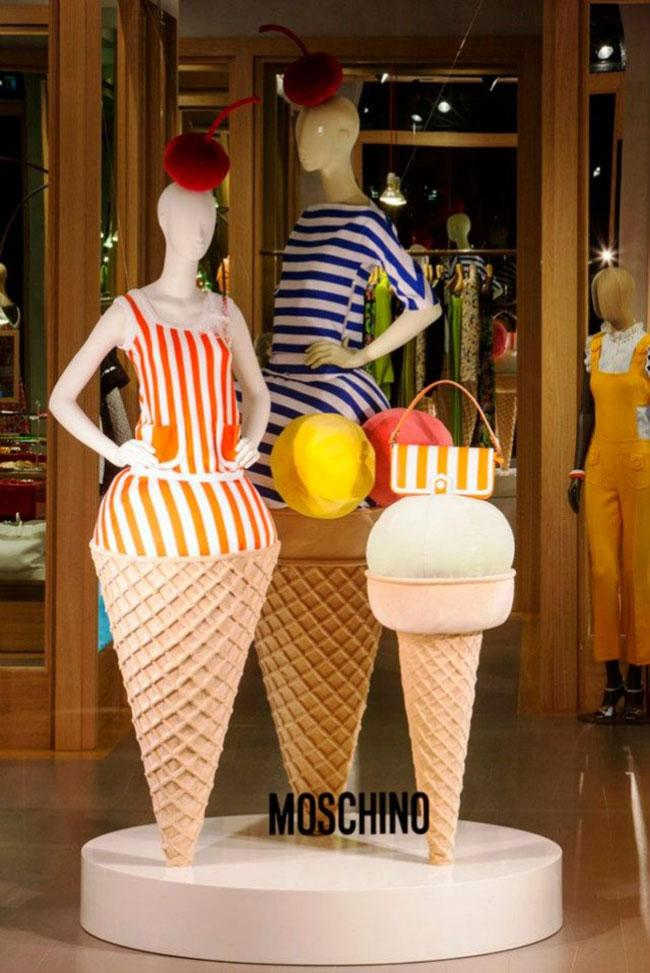person-like: (35, 115, 282, 875), (254, 43, 445, 851), (560, 254, 650, 737)
